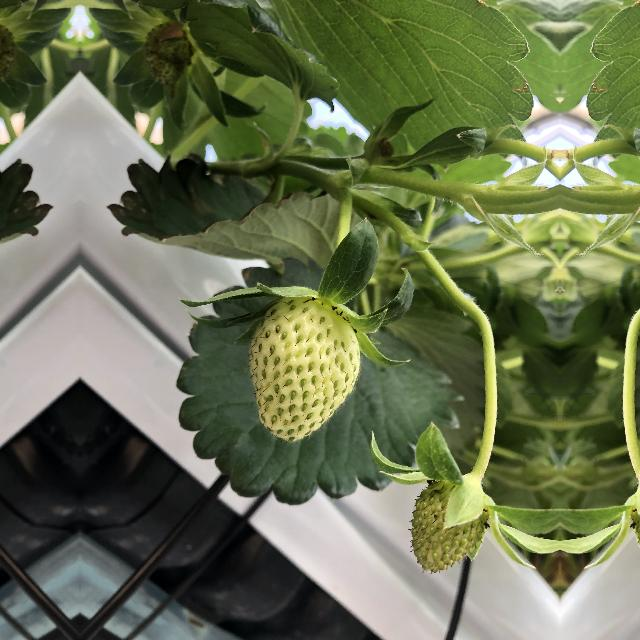Health_25: (242, 292, 366, 450)
